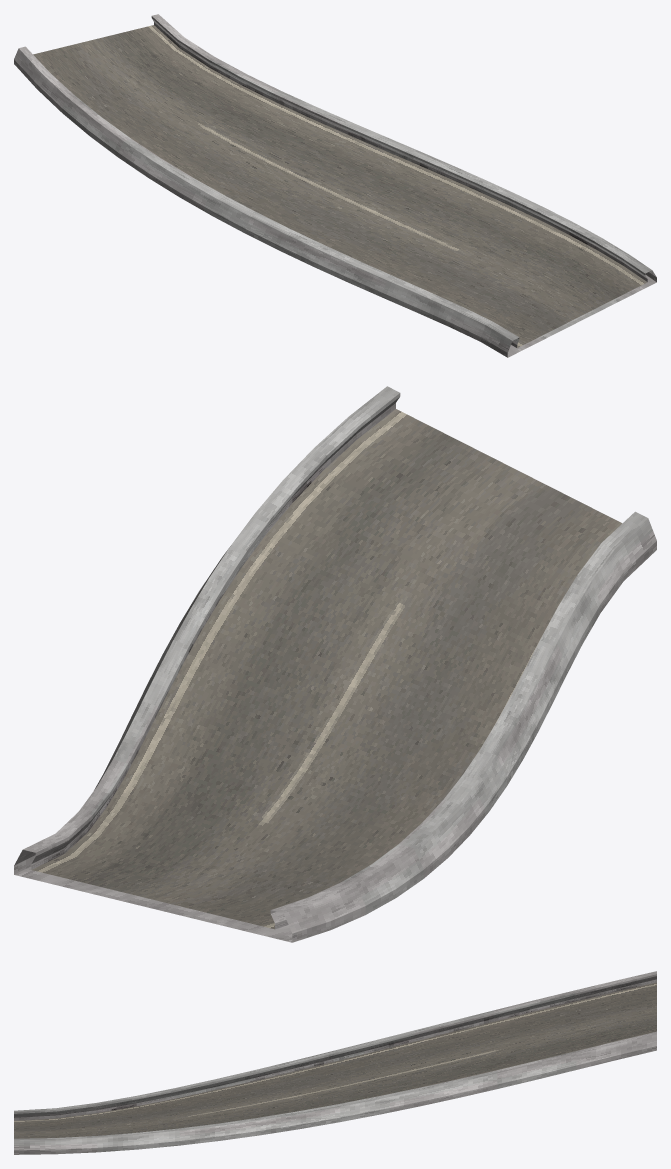
The model's file is chicane-left1x4.glb.
3 renders of one model, top to bottom at view 1: azimuth 30°, elevation 25°; view 2: azimuth 150°, elevation 25°; view 3: azimuth 270°, elevation 25°, orthographic. The views are drawn at different scales.
Visible parts, largest first — view 1: road-Chicane-HalfBankedLeft-BiSlopeUp-Up2-Left1-Size4; view 2: road-Chicane-HalfBankedLeft-BiSlopeUp-Up2-Left1-Size4; view 3: road-Chicane-HalfBankedLeft-BiSlopeUp-Up2-Left1-Size4.
Part boxes in pixels (left/top/right/bottom): road-Chicane-HalfBankedLeft-BiSlopeUp-Up2-Left1-Size4: left=14, top=14, right=656, bottom=357; road-Chicane-HalfBankedLeft-BiSlopeUp-Up2-Left1-Size4: left=14, top=386, right=656, bottom=942; road-Chicane-HalfBankedLeft-BiSlopeUp-Up2-Left1-Size4: left=14, top=971, right=656, bottom=1154.
Bounding box in the file's own units: 2 × 0.5937 × 4.
2 materials, 2 textured.
